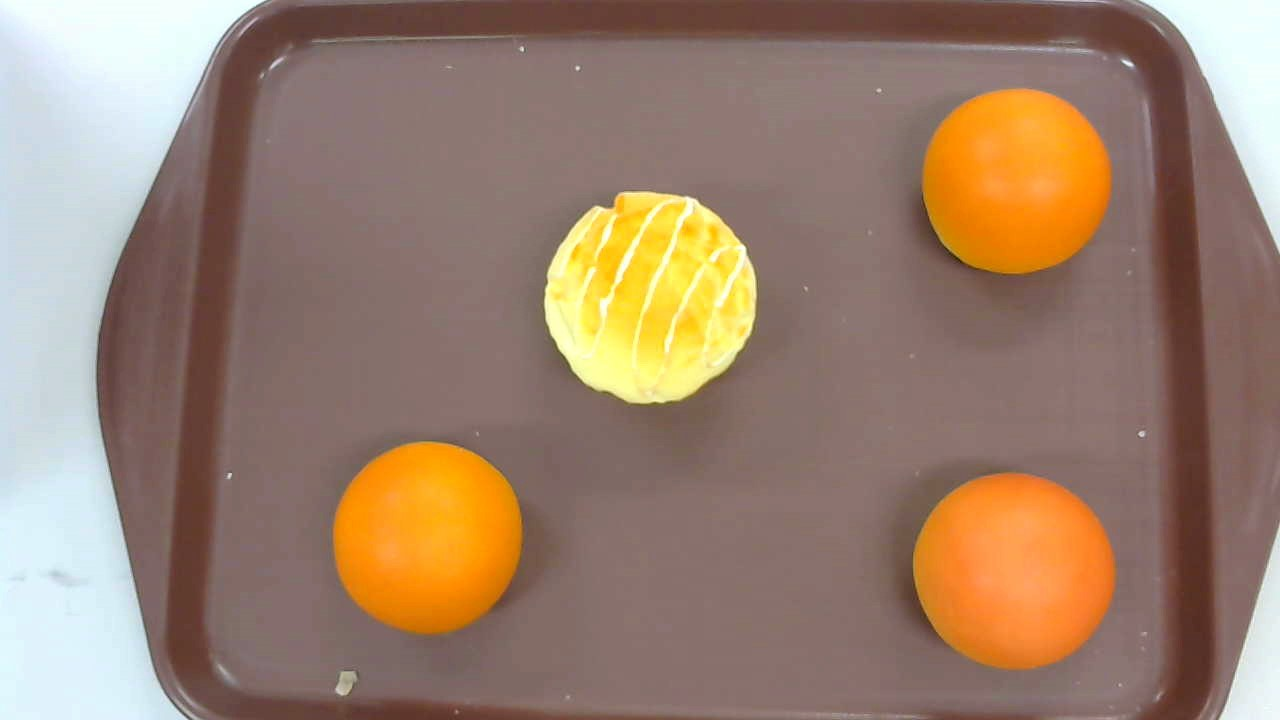bun: (912, 473, 1116, 671), (332, 440, 524, 634), (921, 86, 1112, 272)
cupcake: (544, 190, 757, 404)
